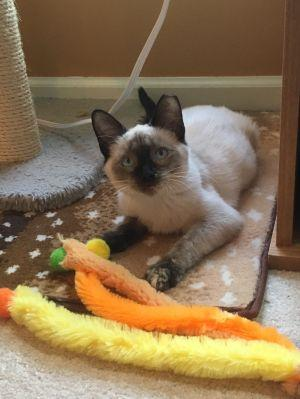siamese: (85, 90, 201, 205)
